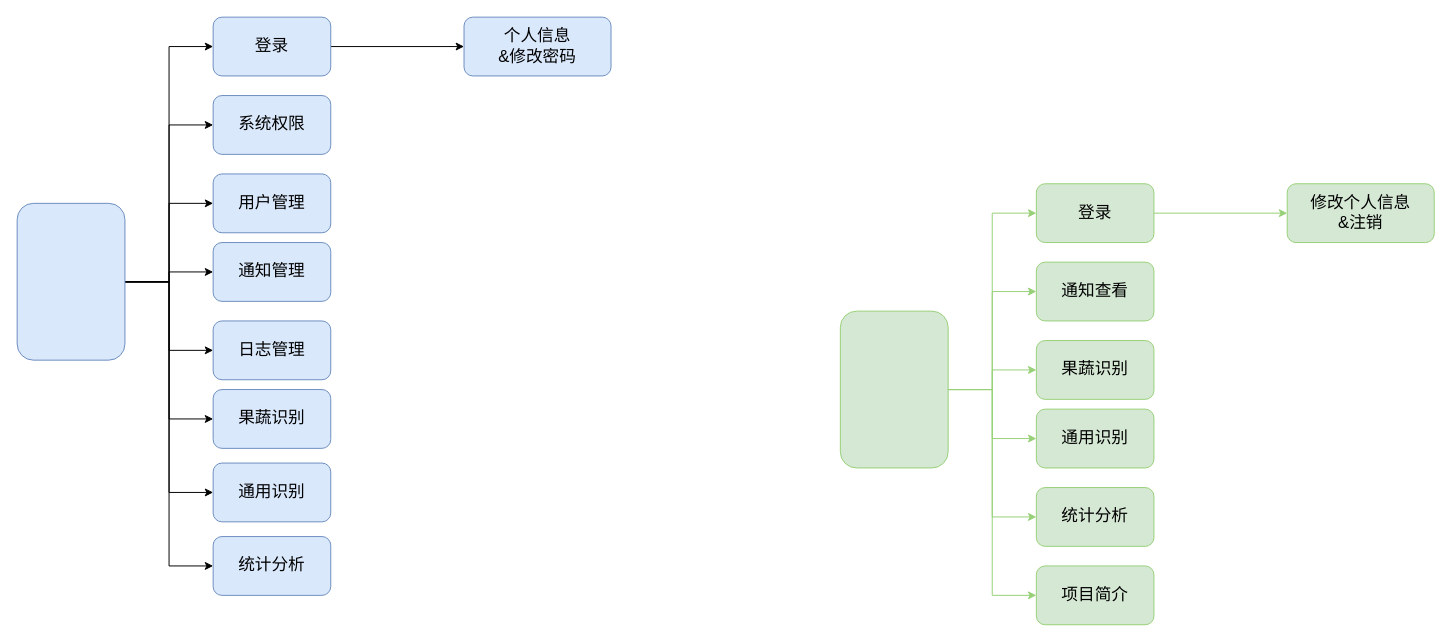
Some shapes in this 1451 by 642 pixel diagram are drawn without their labels. The centre of each missing label's shape, as x and y in pixels:
"百度AI识别 H5移动端" belongs at (x=893, y=389).
"百度AI识别 PC端" belongs at (x=70, y=281).
